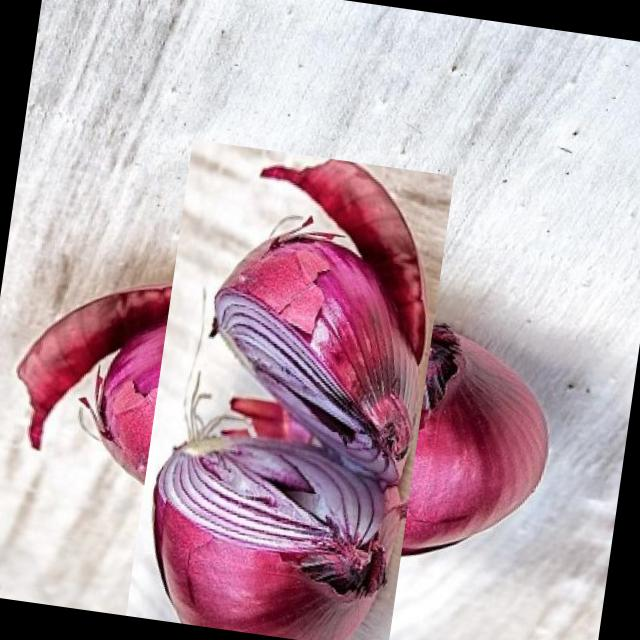Onion: (59, 198, 512, 640)
